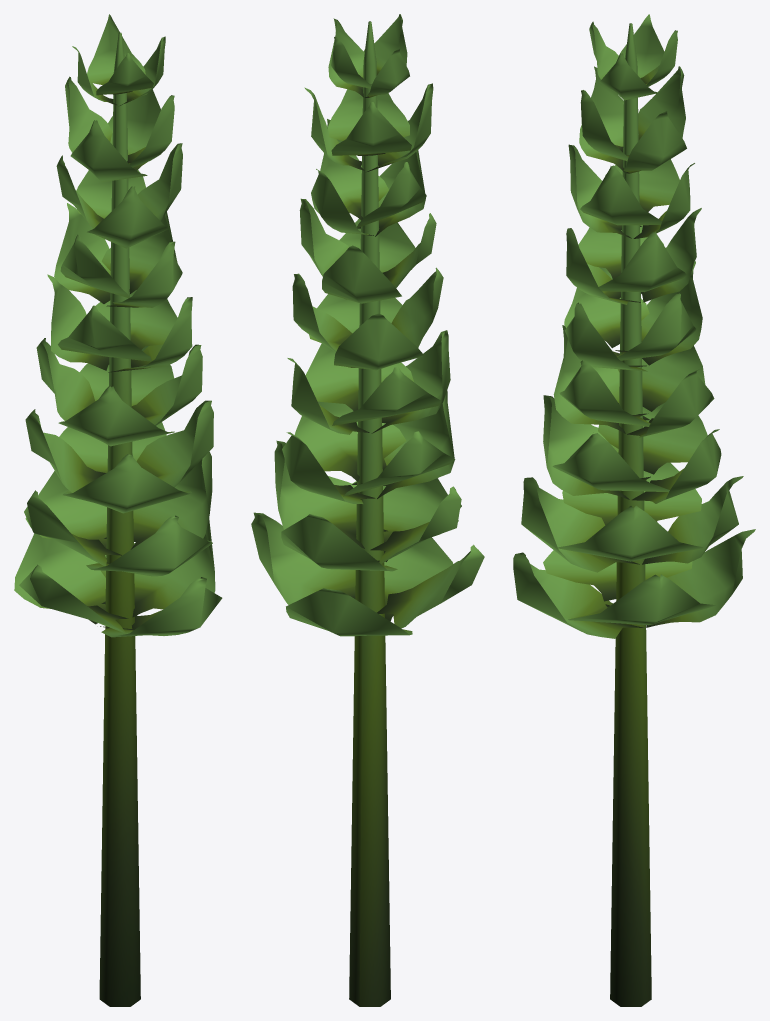
File: planta relleno 3.fbx
3 views of the same model, side by side, from view 1: azimuth 30°, elevation 25°; view 2: azimuth 150°, elevation 25°; view 3: azimuth 270°, elevation 25° (orthographic).
Visible parts, largest first — view 1: base stem; view 2: base stem; view 3: base stem.
Part boxes in pixels (box(x1,y1,x2,y2)): base stem: box(14, 14, 222, 1006); base stem: box(251, 14, 484, 1006); base stem: box(513, 14, 755, 1006).
Size of the model in its own units: 317 by 1429 by 322.
